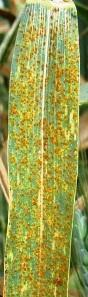Wheat: (16, 9, 70, 296)
